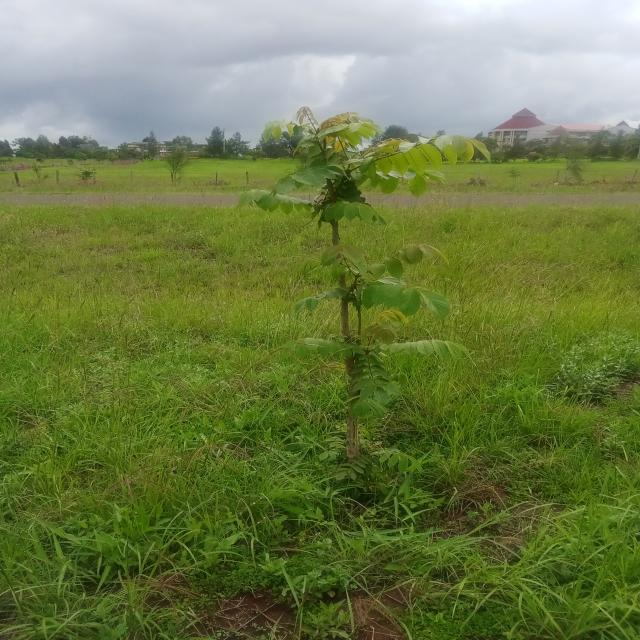Polyscias Kikuyensis: (225, 110, 549, 445)
